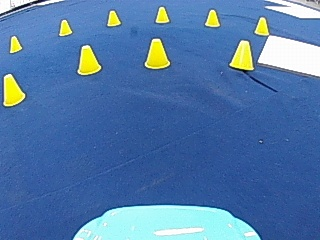cone: (144, 36, 170, 68), (228, 39, 254, 70), (76, 43, 101, 74), (2, 72, 25, 105), (204, 8, 220, 27), (253, 16, 269, 35), (106, 9, 121, 26), (154, 6, 169, 23), (58, 18, 72, 36), (9, 34, 22, 52)
